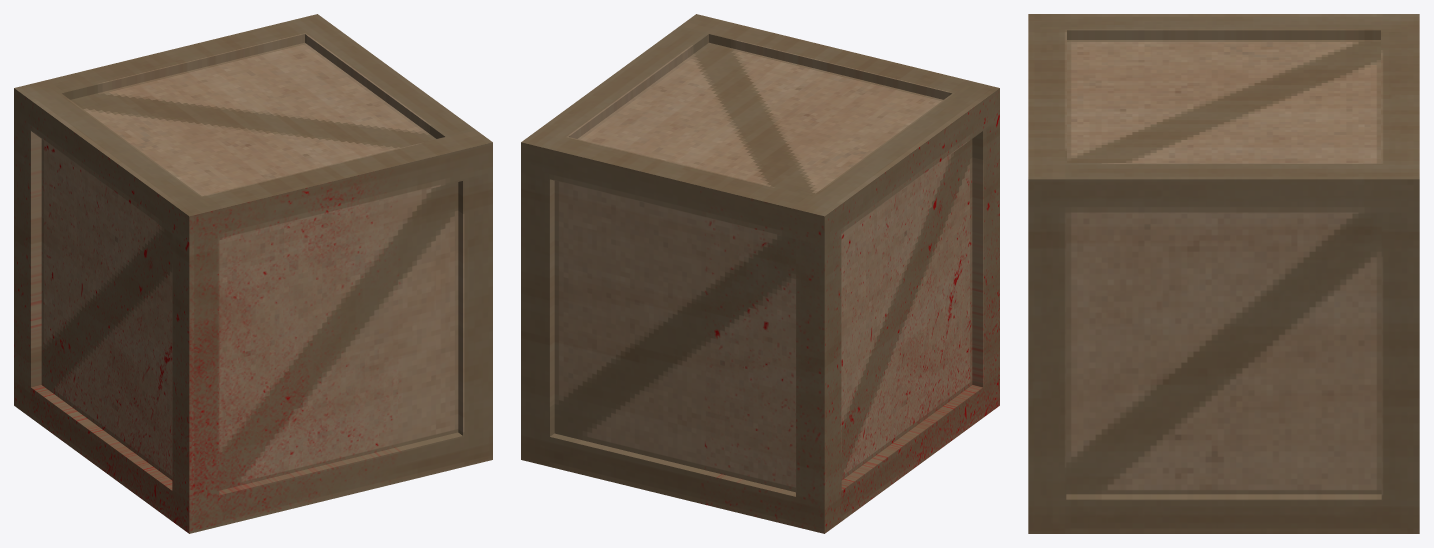
File: woodbox_L.fbx
3 renders of one model, left to right at view 1: azimuth 30°, elevation 25°; view 2: azimuth 150°, elevation 25°; view 3: azimuth 270°, elevation 25°, orthographic. The views are drawn at different scales.
Parts seen in each view (by area): view 1: Cube; view 2: Cube; view 3: Cube.
Part boxes in pixels (left/top/right/bottom): Cube: left=14, top=14, right=492, bottom=533; Cube: left=521, top=14, right=999, bottom=533; Cube: left=1028, top=14, right=1419, bottom=533.
Bounding box in the file's own units: 200 × 200 × 200.
